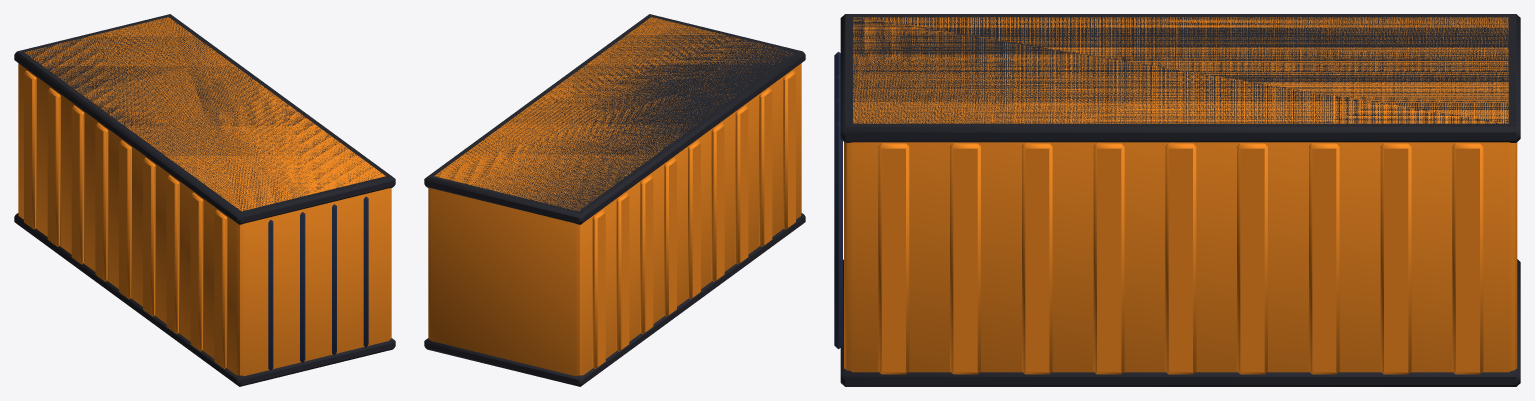
File: W1_Container_A.fbx
The picture shows the model from 3 angles, left to right: view 1: azimuth 30°, elevation 25°; view 2: azimuth 150°, elevation 25°; view 3: azimuth 270°, elevation 25°; orthographic projection. The views are drawn at different scales.
Visible parts, largest first — view 1: W1_Container_A; view 2: W1_Container_A; view 3: W1_Container_A.
Boxes of the visible parts, box(x1,y1,x2,y2) form: W1_Container_A: box(14, 14, 395, 386); W1_Container_A: box(424, 14, 805, 386); W1_Container_A: box(834, 14, 1520, 386).
Size of the model in its own units: 2.58 by 2.6 by 6.22.
